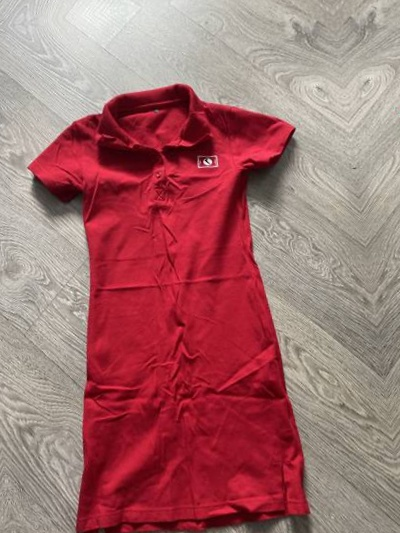Dress: (0, 63, 354, 533), (390, 8, 400, 511)
